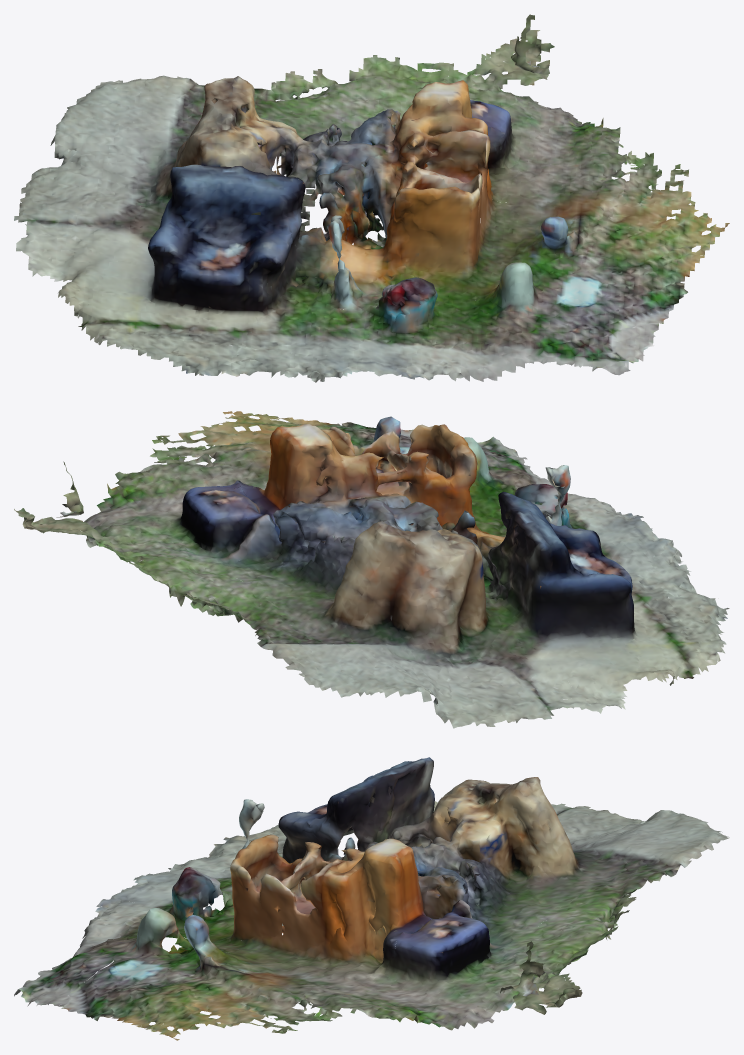
The model's file is 20230328_185343_Converted.fbx.
3 renders of one model, top to bottom at view 1: azimuth 30°, elevation 25°; view 2: azimuth 150°, elevation 25°; view 3: azimuth 270°, elevation 25°, orthographic. The views are drawn at different scales.
Parts seen in each view (by area): view 1: 20230328_185343; view 2: 20230328_185343; view 3: 20230328_185343.
Part boxes in pixels (box(x1,y1,x2,y2)): 20230328_185343: box(14, 14, 729, 382); 20230328_185343: box(14, 411, 729, 728); 20230328_185343: box(14, 757, 729, 1040).
Bounding box in the file's own units: 577 × 151 × 628.
